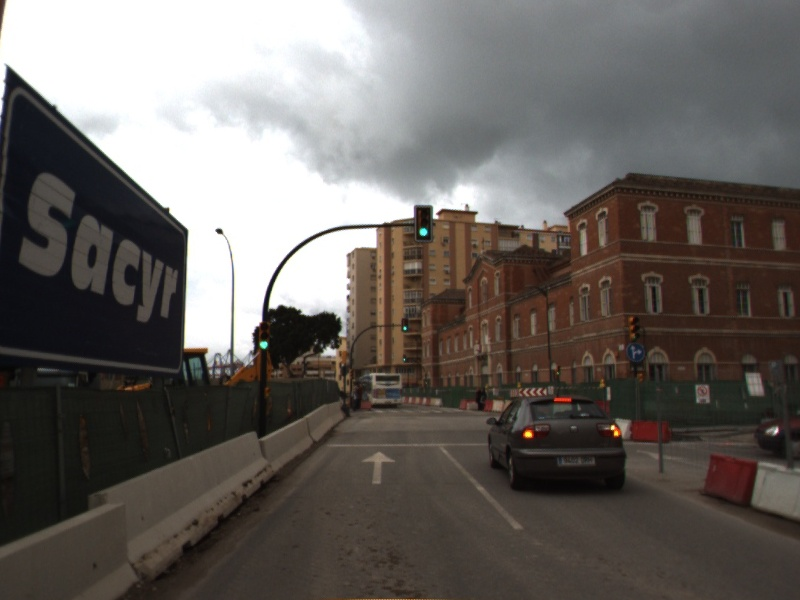STRAIGHT: (359, 450, 398, 486)
